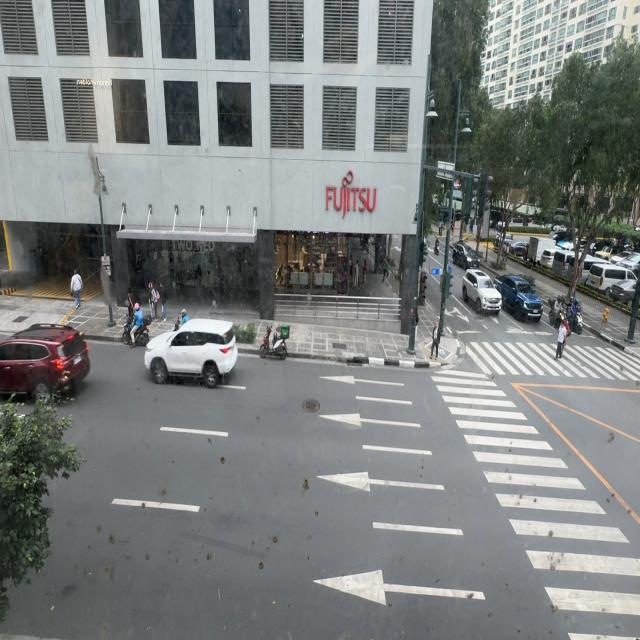crossing: (554, 318, 568, 360)
pedestrain: (70, 270, 82, 310), (148, 282, 159, 323), (158, 284, 168, 322), (125, 288, 134, 324)
waiting: (430, 318, 440, 359)
